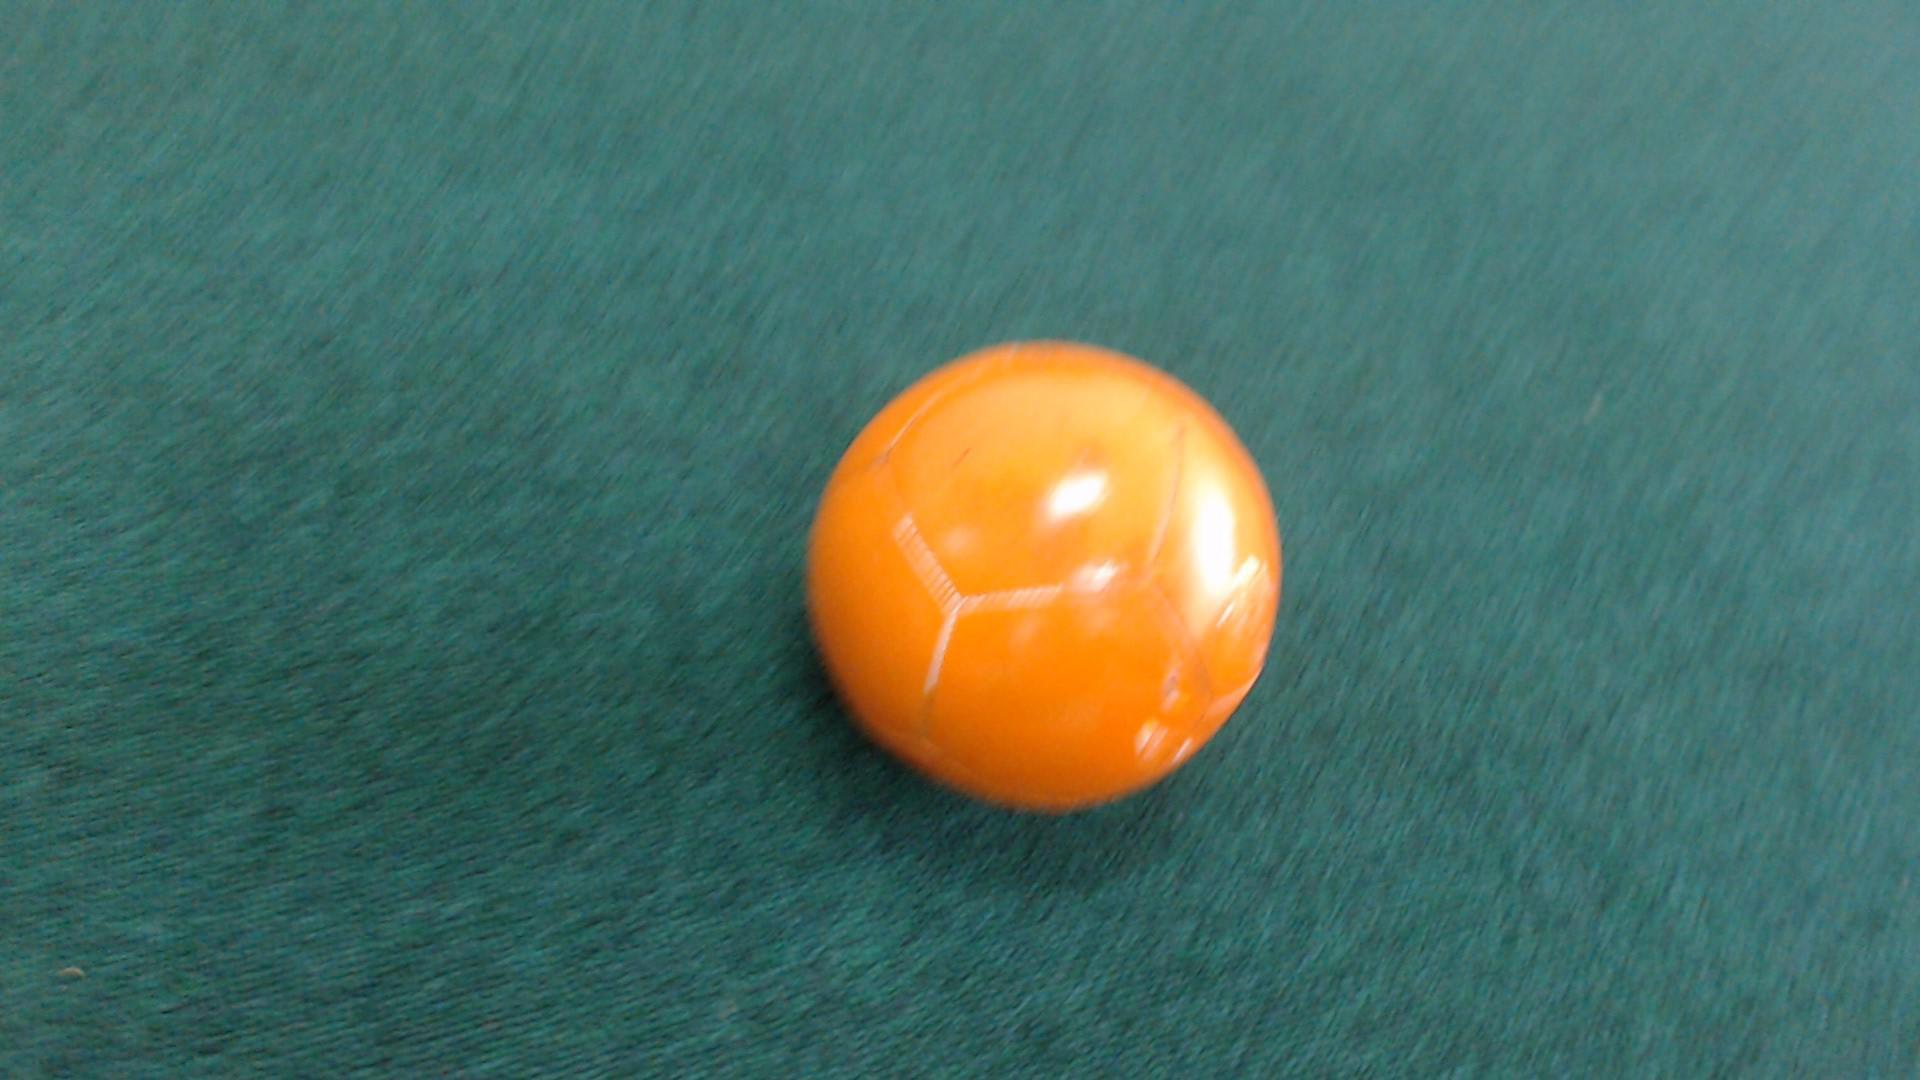bola: (778, 328, 1349, 837)
